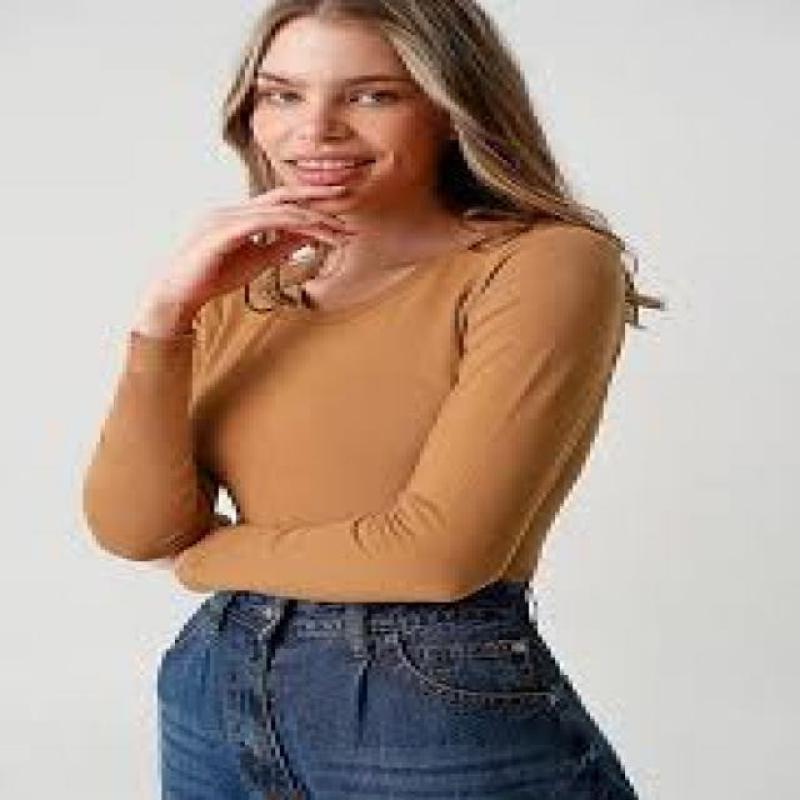long sleeve shirt: (78, 215, 631, 606)
trousers: (152, 583, 639, 800)
